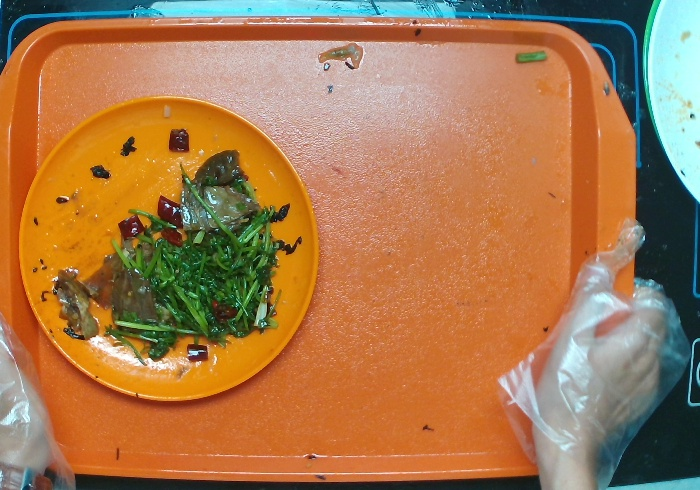HZYJPL-Ju_Huang_Yuan_Pan: (12, 90, 333, 413)
